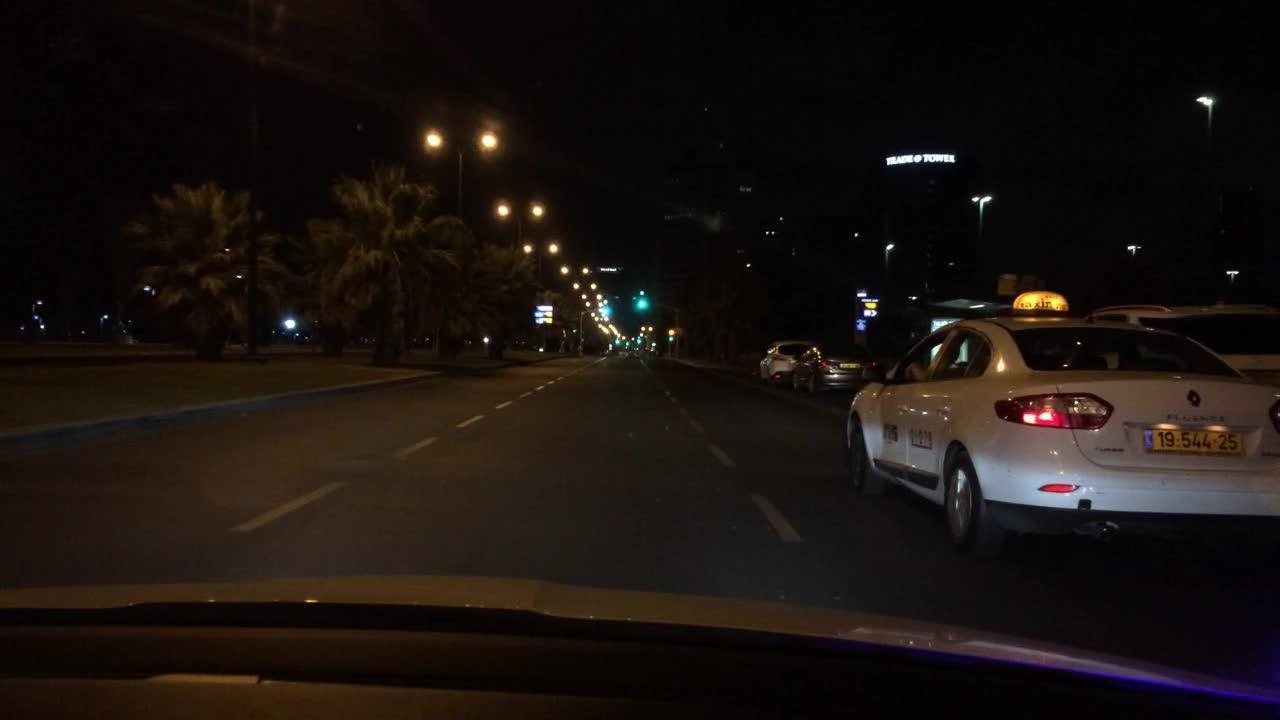Renault: (1183, 384, 1206, 412)
